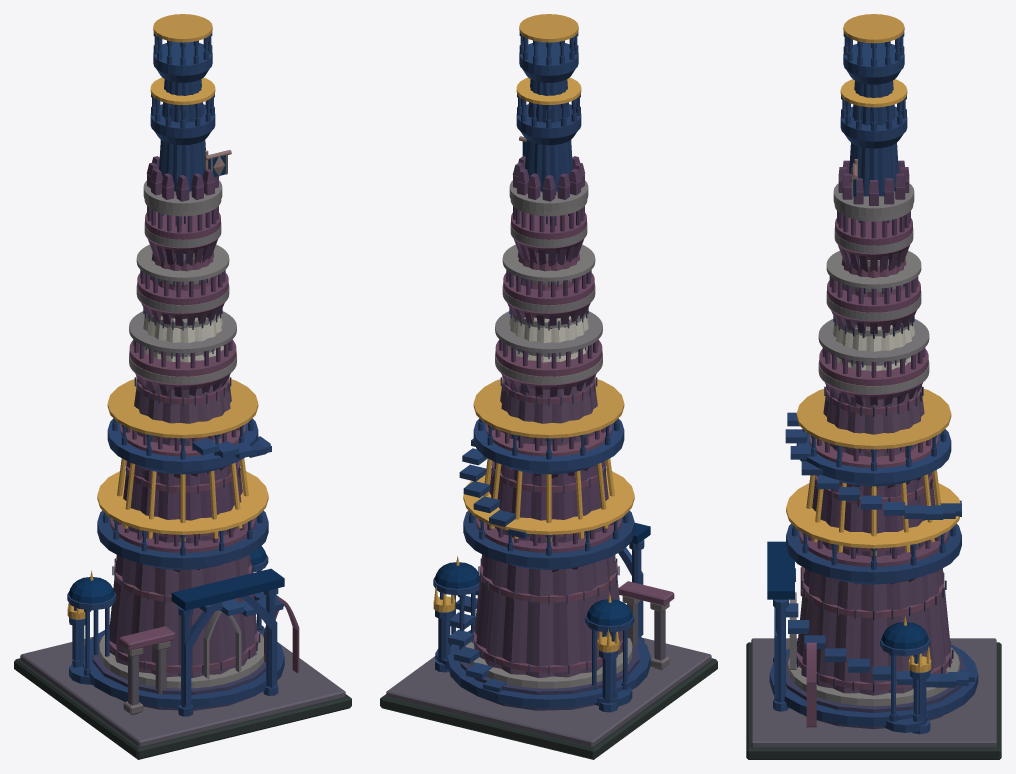
3 renders of one model, left to right at view 1: azimuth 30°, elevation 25°; view 2: azimuth 150°, elevation 25°; view 3: azimuth 270°, elevation 25°, orthographic. The views are drawn at different scales.
Parts seen in each view (by area): view 1: archer_tower_L11_0, archer_tower_L11_1; view 2: archer_tower_L11_0, archer_tower_L11_1; view 3: archer_tower_L11_0, archer_tower_L11_1.
Part boxes in pixels (left/top/right/bottom): archer_tower_L11_0: left=14, top=32, right=351, bottom=759; archer_tower_L11_1: left=67, top=14, right=268, bottom=619; archer_tower_L11_0: left=380, top=32, right=717, bottom=759; archer_tower_L11_1: left=433, top=14, right=634, bottom=652; archer_tower_L11_0: left=746, top=32, right=1001, bottom=759; archer_tower_L11_1: left=786, top=14, right=960, bottom=672.
Bounding box in the file's own units: 3.6 × 10.58 × 3.6.
